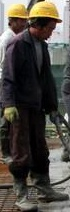boots: (14, 195, 38, 212), (37, 190, 69, 202)
gloves: (3, 106, 20, 124), (48, 109, 65, 124)
hard-hat: (5, 4, 29, 19)
